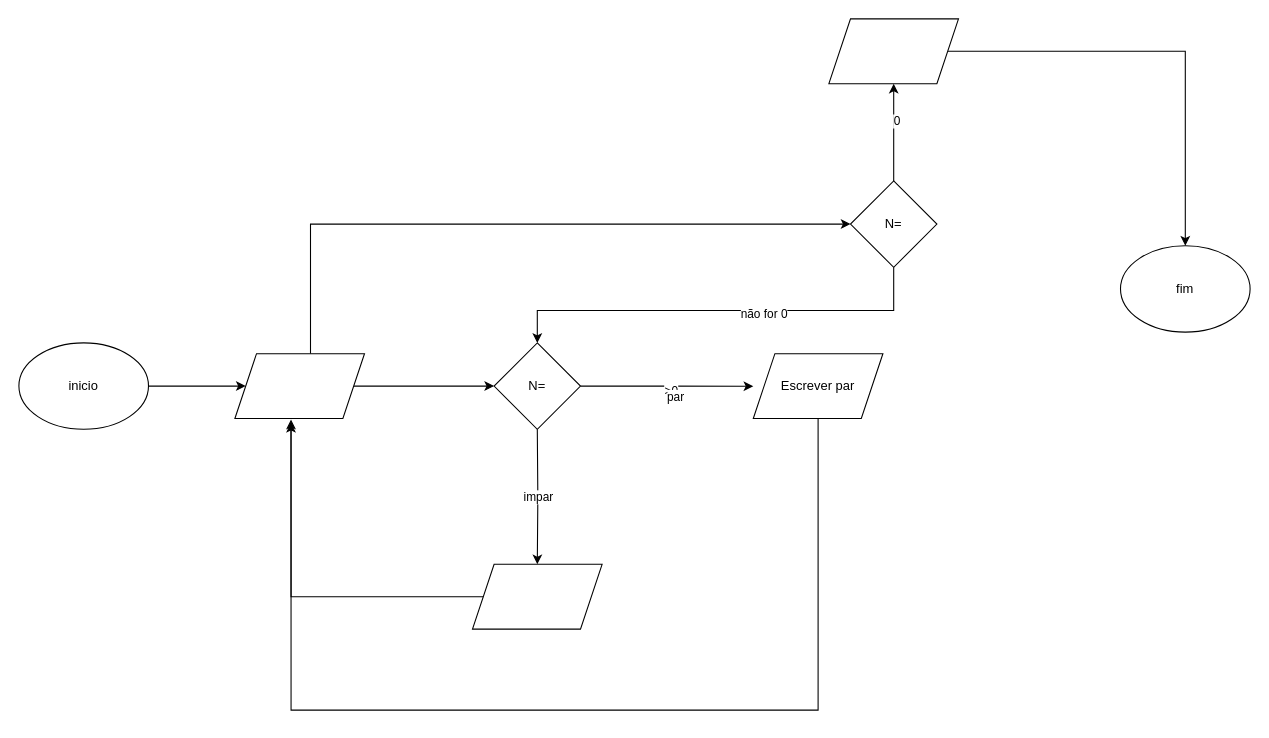
The diagram is 1269 pixels wide and 738 high, and some of its shapes have lost their labels. The shapes that lost their labels are listed below. From the top down, each one's centre as x and y in pixels, then its label:
(x=893, y=51): Digitou 0-vai sair do programa
(x=299, y=385): pedir N
(x=536, y=596): Escrever impar
